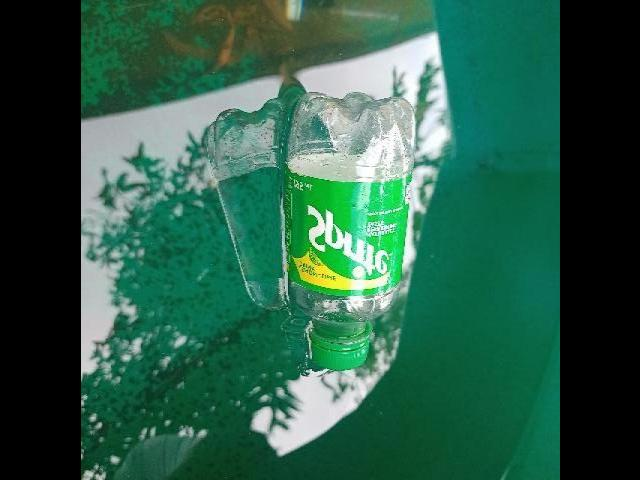Bottle: (274, 86, 418, 368)
